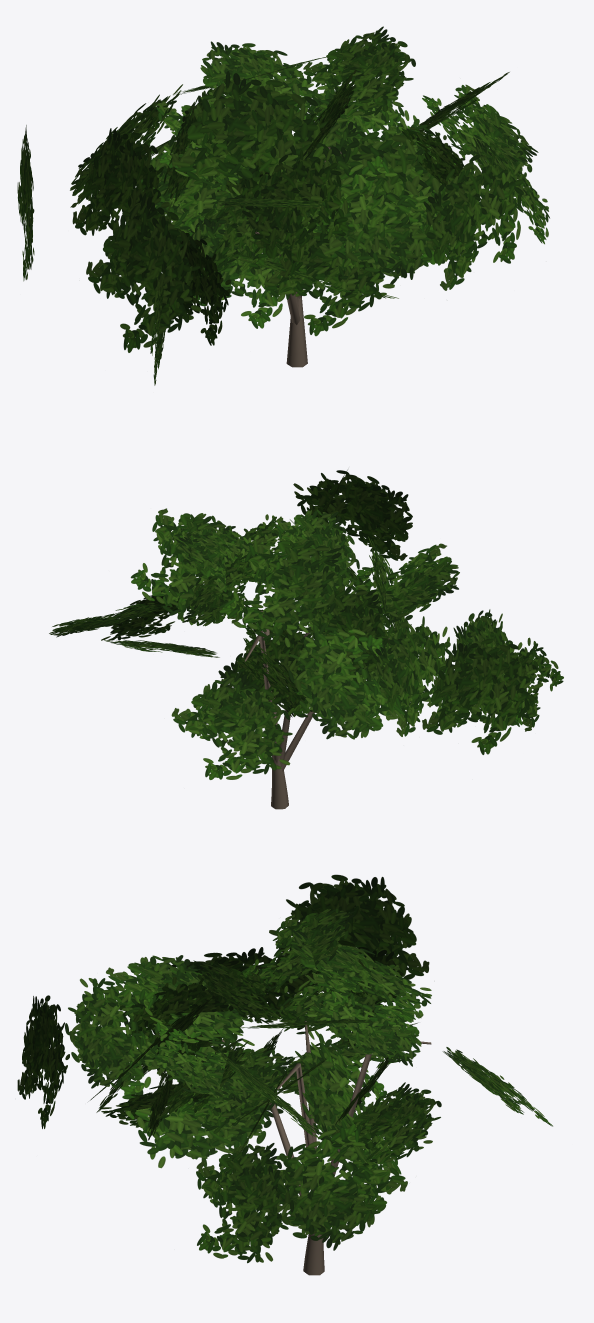
The model's file is Cay2_Bui.glb.
3 views of the same model, one above another, from view 1: azimuth 30°, elevation 25°; view 2: azimuth 150°, elevation 25°; view 3: azimuth 270°, elevation 25° (orthographic). The views are drawn at different scales.
Visible parts, largest first — view 1: Cay2_Bui; view 2: Cay2_Bui; view 3: Cay2_Bui.
Part boxes in pixels (x1=…): Cay2_Bui: x1=17, y1=26, x2=549, y2=385; Cay2_Bui: x1=49, y1=470, x2=563, y2=809; Cay2_Bui: x1=17, y1=874, x2=552, y2=1275.
Size of the model in its own units: 3.67 by 2.08 by 3.13.
Materials: 2 (1 with a texture image).
